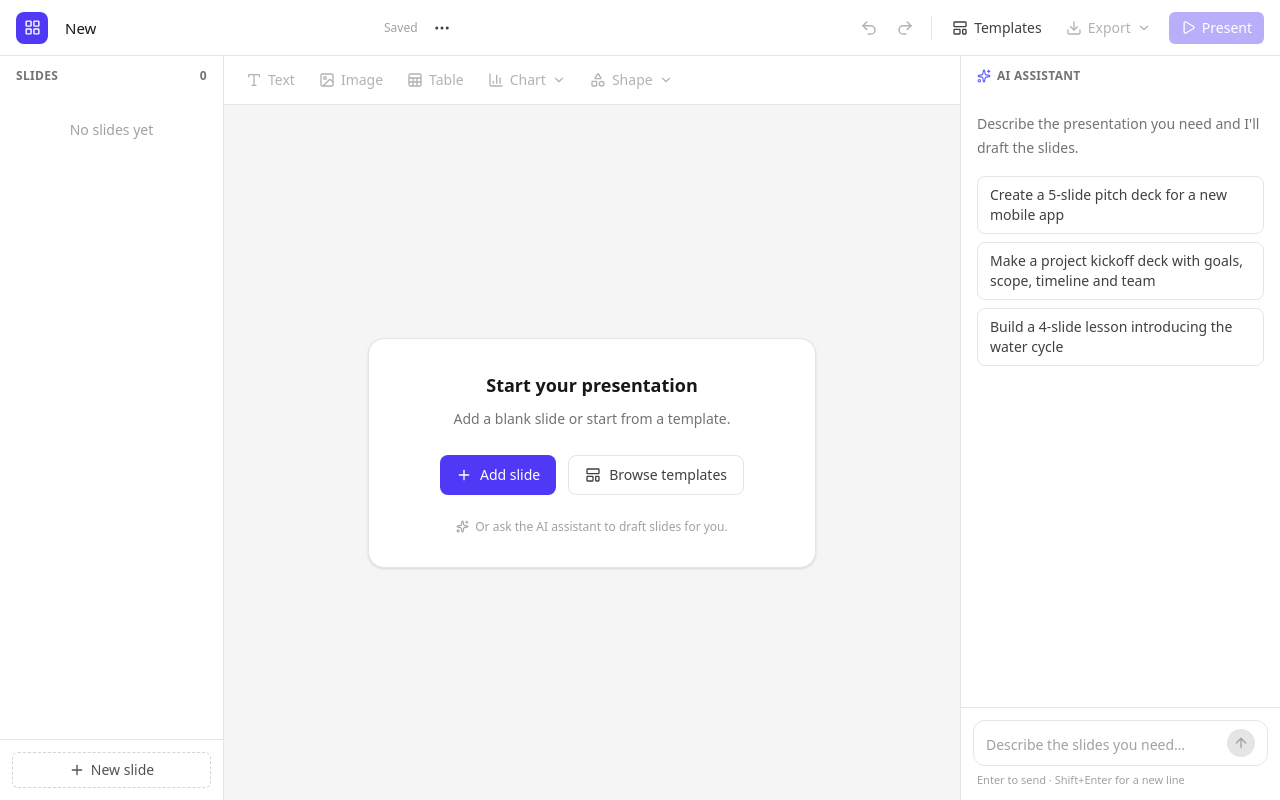
Editor: slides and templates › adds a slide from the empty state, shows the canvas and saves it
Expected: the field named "Presentation title" is shown, top-left (56, 10), bottom-right (376, 46)
Click the button "Add slide": {"x": 498, "y": 474} top-left (440, 454), bottom-right (556, 494)
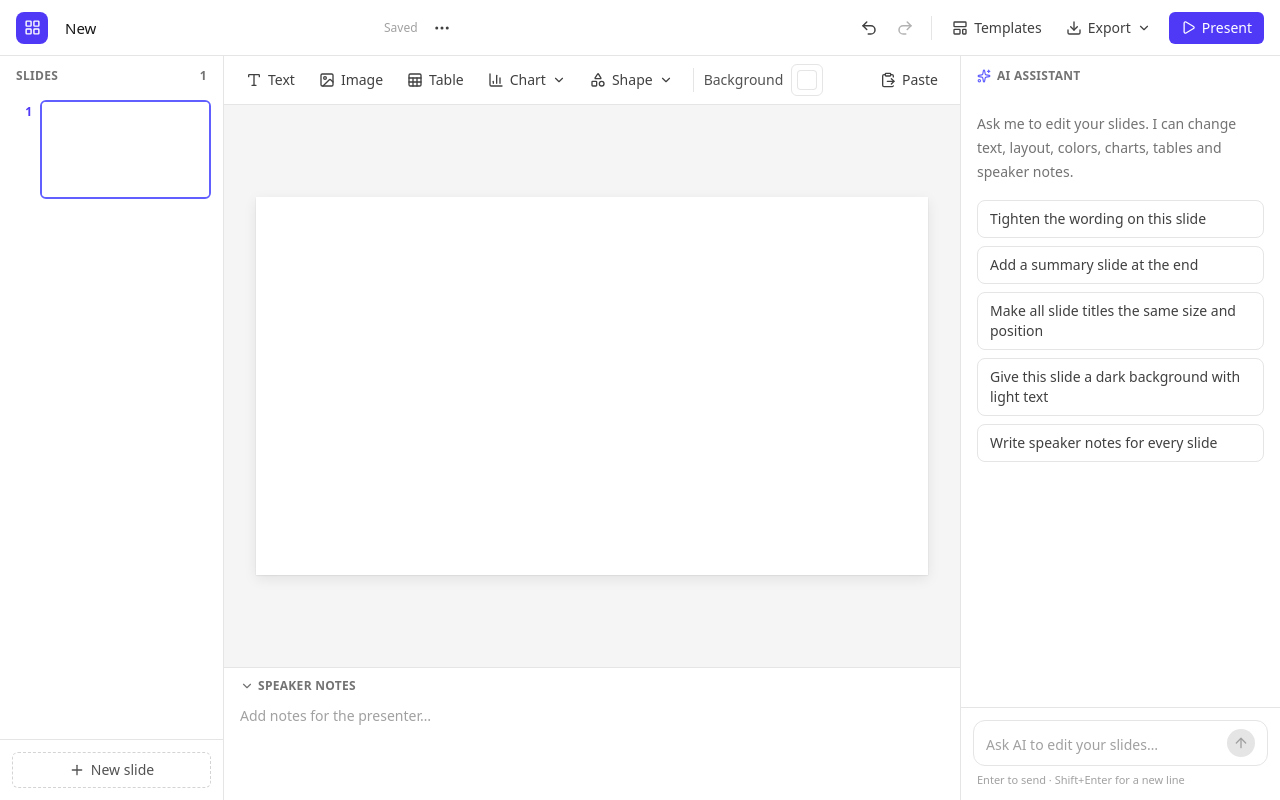
Expected: the element with test id "slide-canvas" is shown, top-left (256, 197), bottom-right (928, 575)
Expected: the element with test id "notes-panel" is shown, top-left (224, 667), bottom-right (960, 799)
